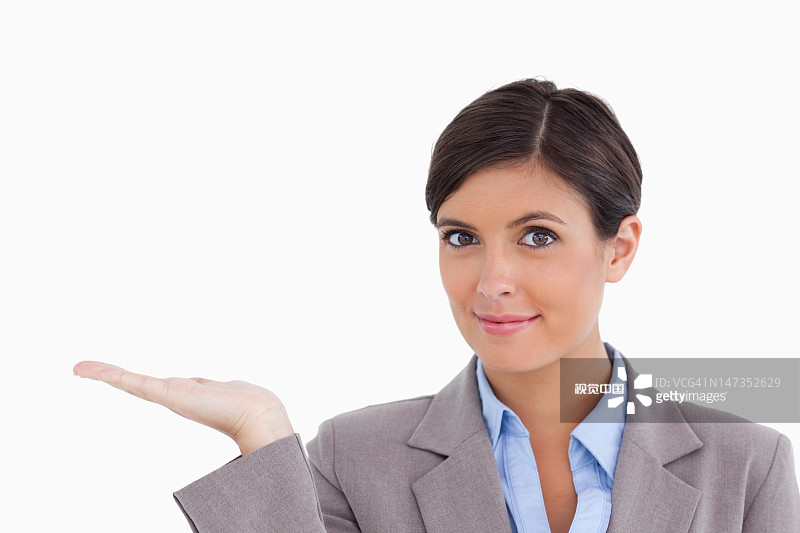no-phone: (67, 345, 304, 461)
